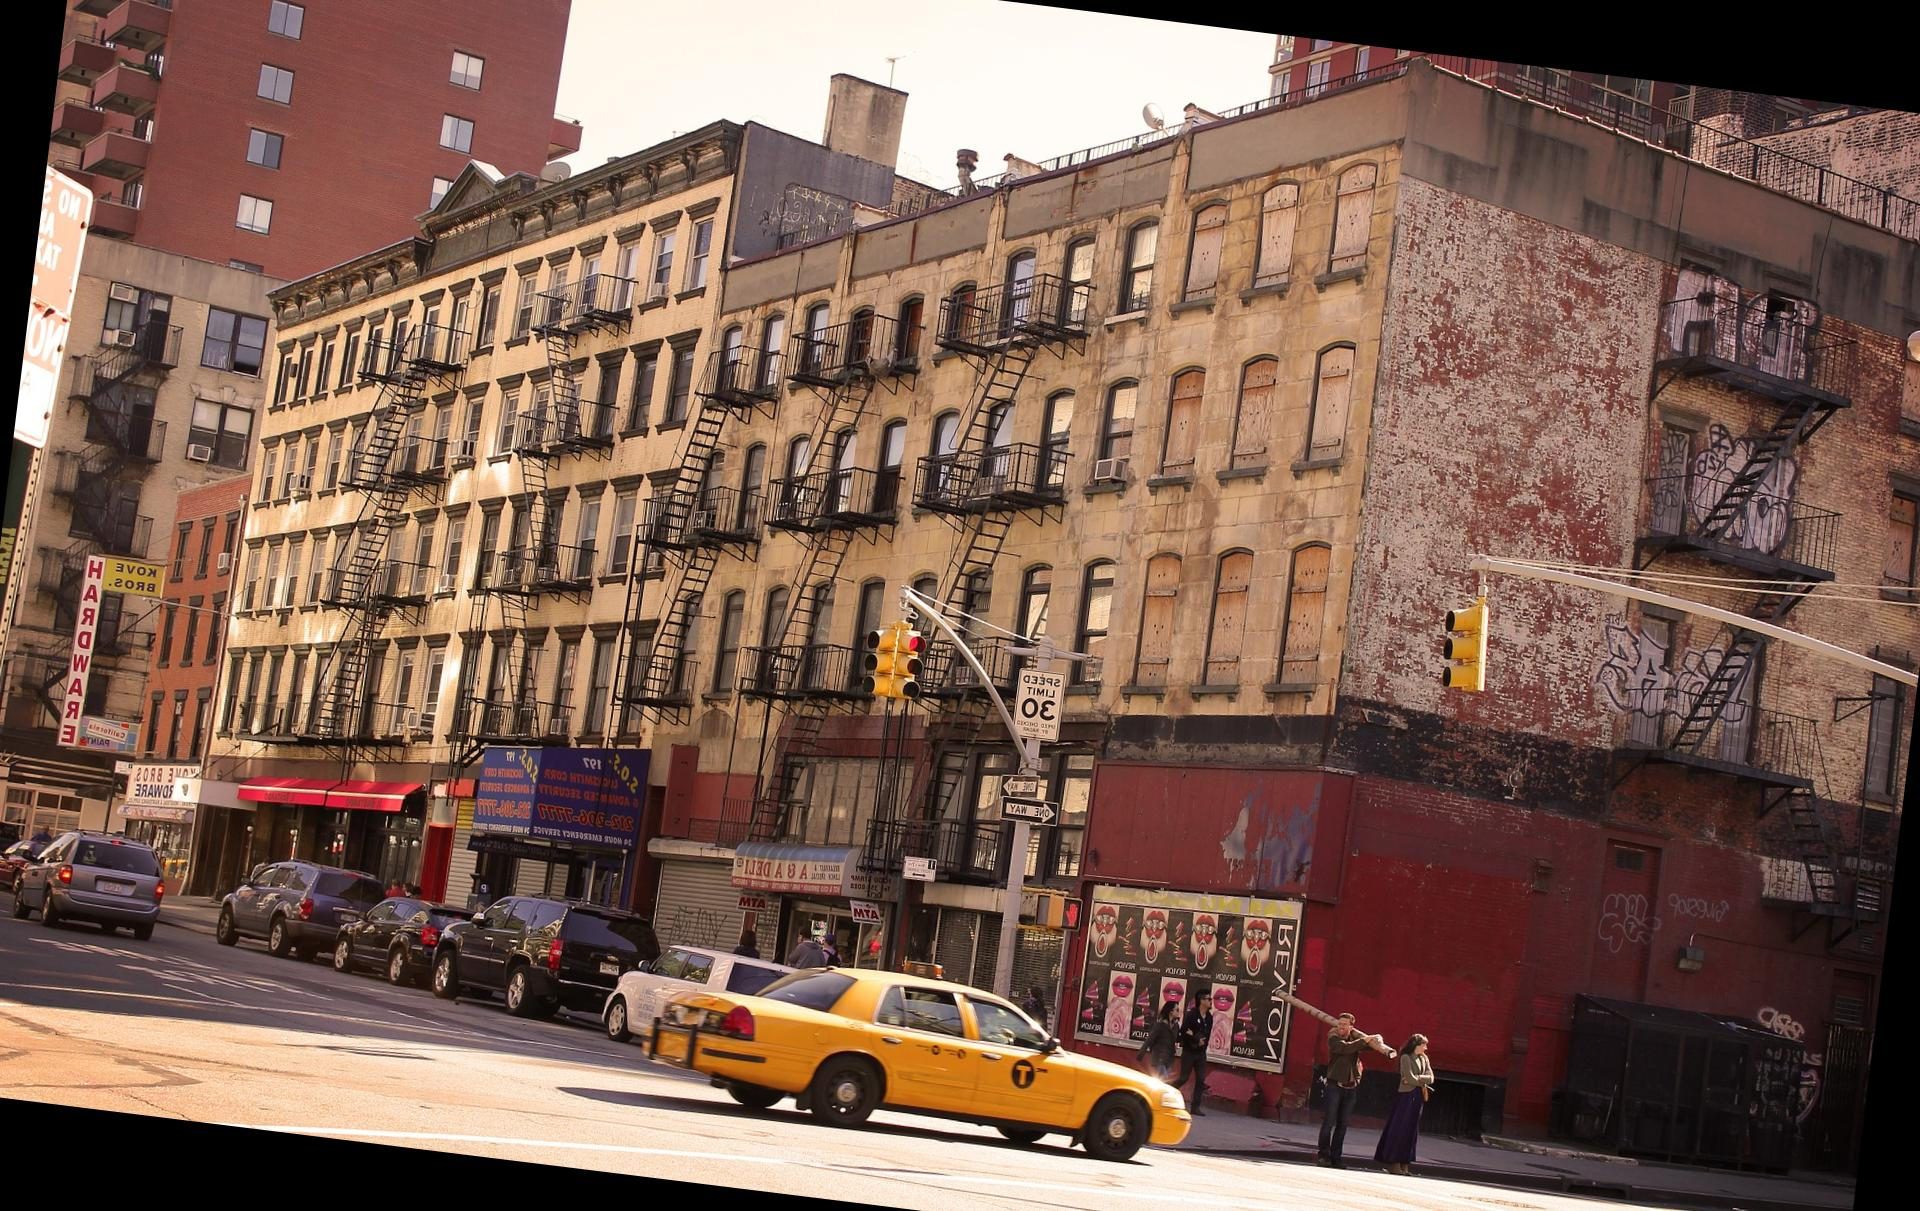taxi: (640, 952, 1203, 1175)
